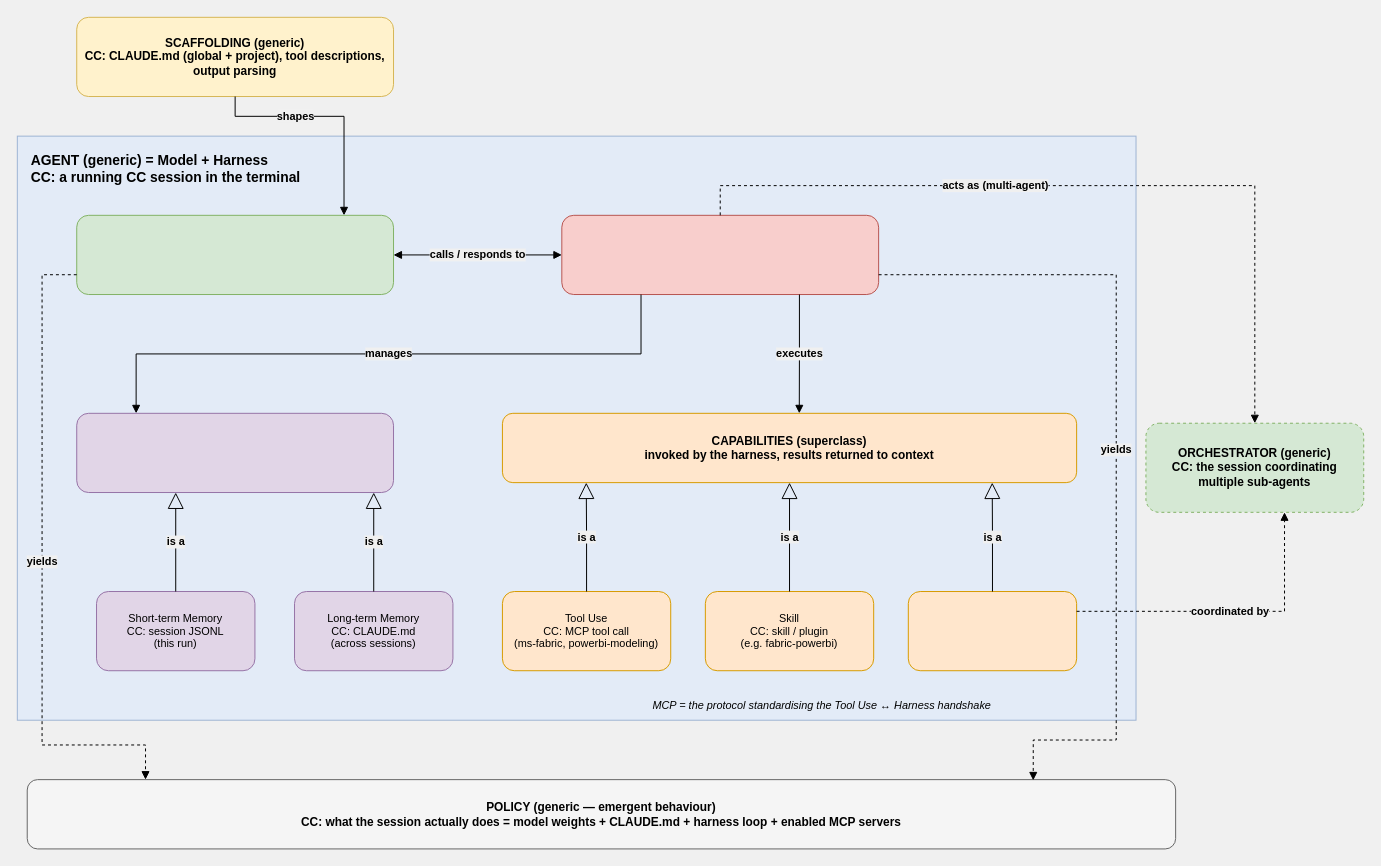
Image size: 1381x866. Some labels were removed from this diagram. Here are the shapes that lost their labels. From the top down, the centre of each, then its label:
At point (235, 254): "MODEL (generic) CC: Claude (Opus / Sonnet) stateless, no loop".
At point (720, 254): "HARNESS (generic) CC: the CC CLI runtime drives the loop, decides when to stop".
At point (235, 452): "CONTEXT ENGINEERING (generic) CC: settings.json tiers, /compact, /resume".
At point (992, 631): "Sub-agent CC: claude agents own model + scaffold".
